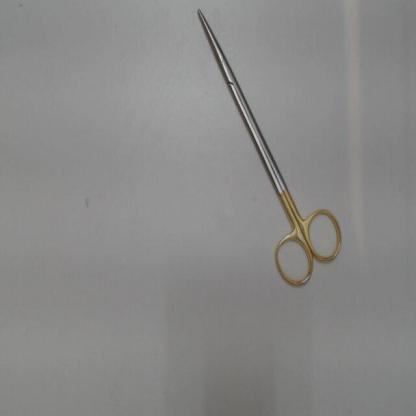7 Metzenbaum Scissors: (193, 3, 347, 294)
